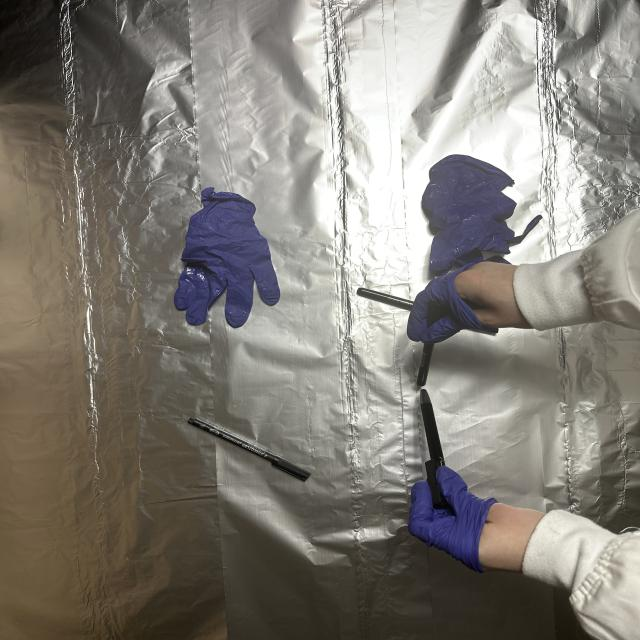glove_partial: (399, 459, 543, 571), (404, 258, 538, 348)
